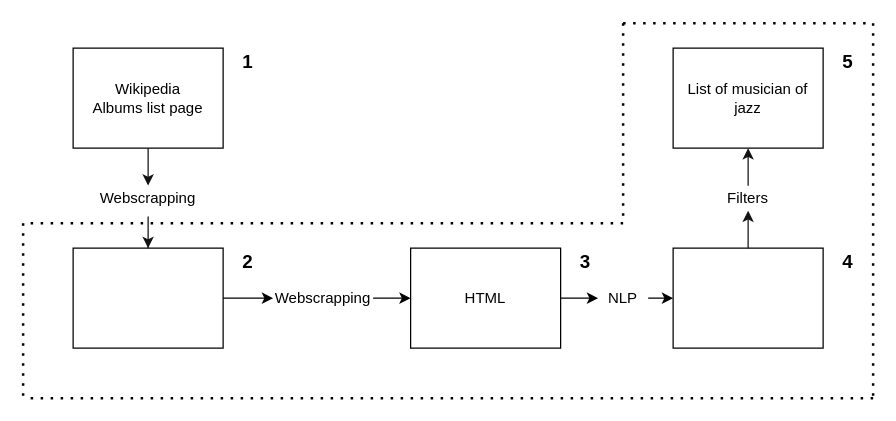
Some shapes in this 896 by 421 pixel diagram are drawn without their labels. The box of each missing label's shape, as (x1, y1, x2, y2) in pixels:
List of name: (672, 247, 823, 348)
Wikipedia Album page: (72, 247, 223, 348)
